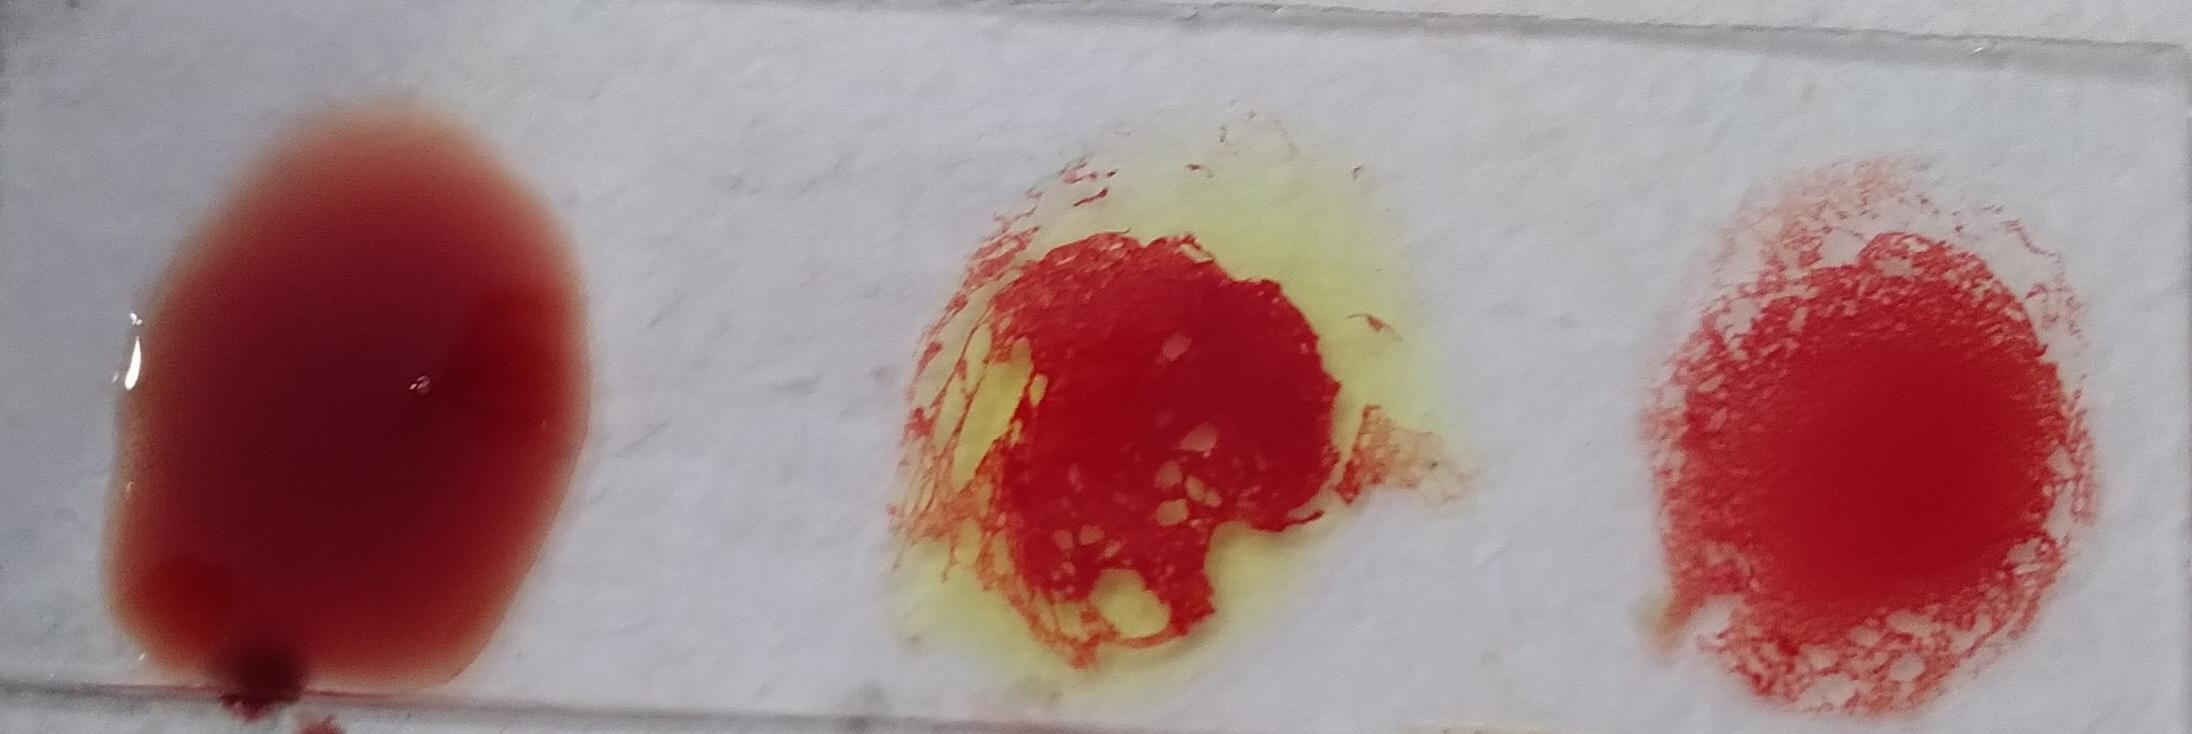B: (774, 55, 1314, 591)
D: (84, 18, 527, 535)
